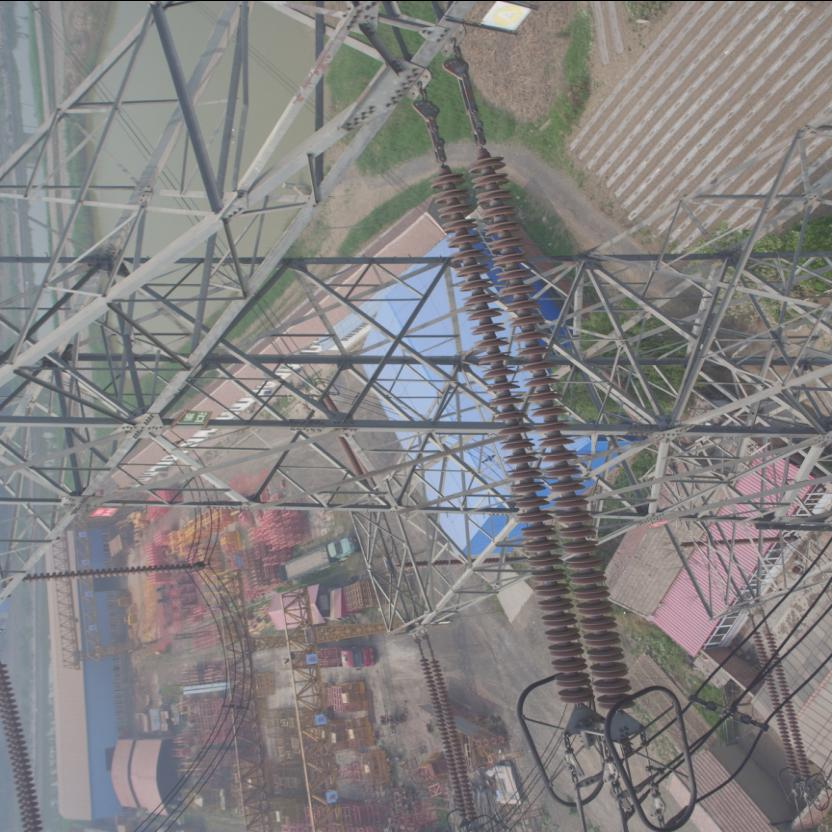insulator: (422, 127, 637, 722), (415, 648, 481, 826), (744, 621, 814, 777), (0, 662, 47, 832)
